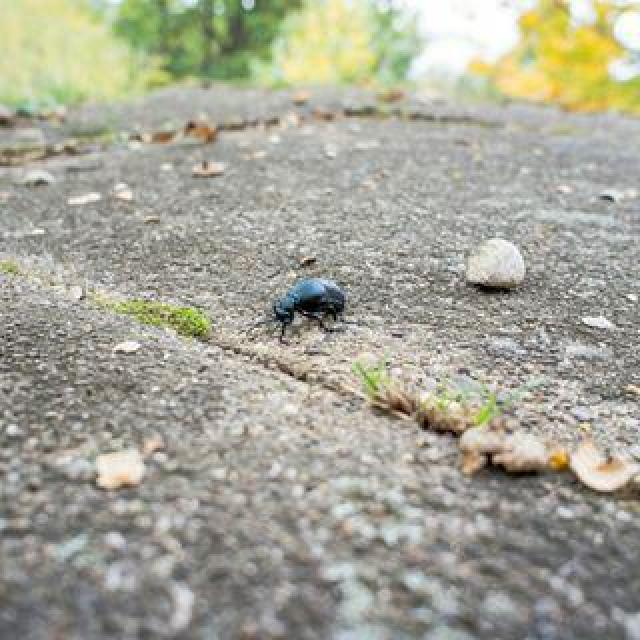BlisterBeetle-Adult-: (240, 268, 354, 352)
